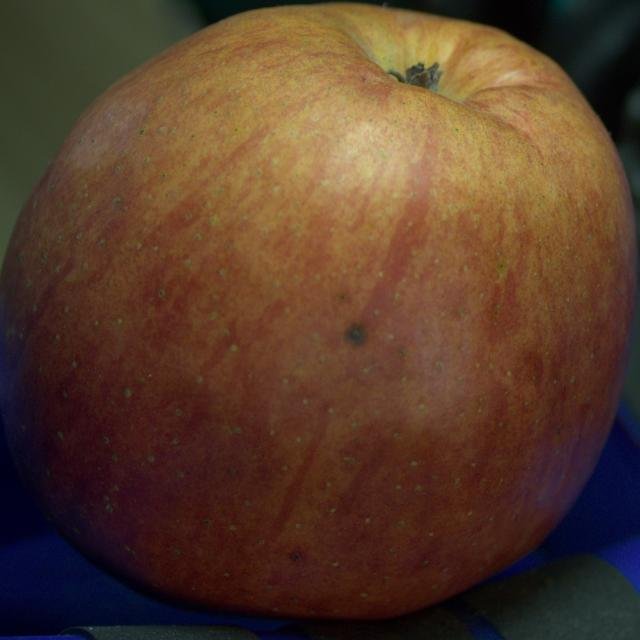apple: (0, 4, 636, 619)
pest: (346, 325, 366, 345)
